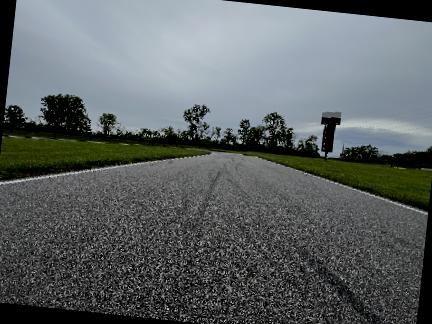Grass: (234, 151, 431, 210), (0, 138, 209, 179)
Lane: (0, 152, 427, 323)
